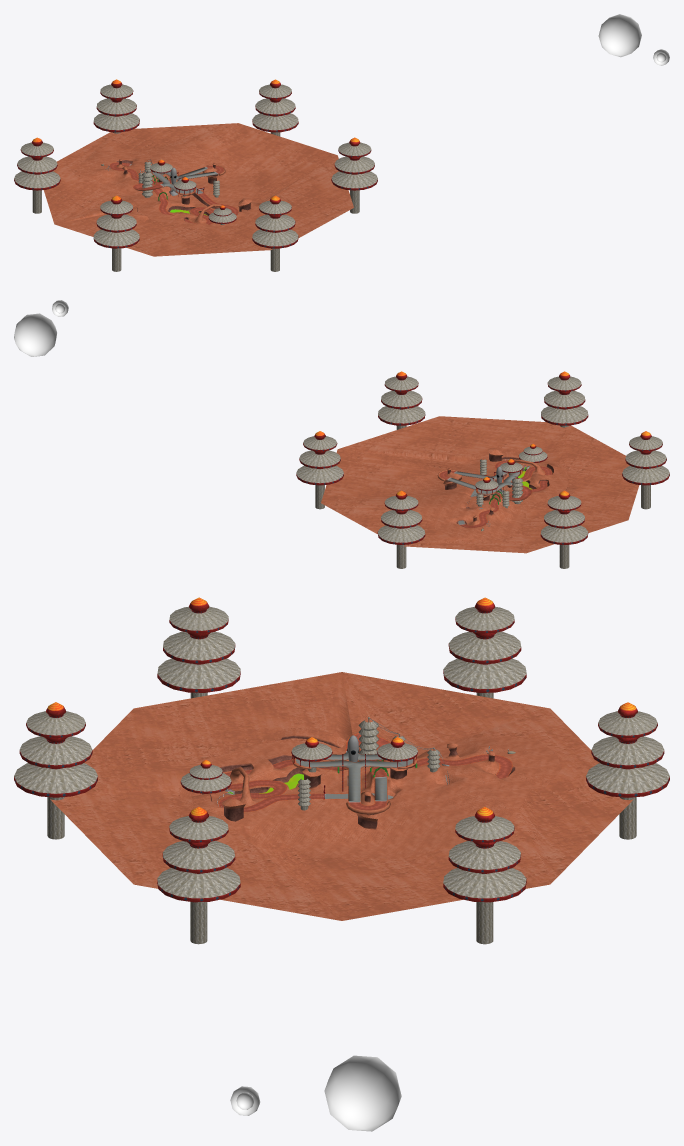
Rendered from xr591_track.glb.
The picture shows the model from 3 angles, top to bottom: view 1: azimuth 30°, elevation 25°; view 2: azimuth 150°, elevation 25°; view 3: azimuth 270°, elevation 25°; orthographic projection. The views are drawn at different scales.
Visible parts, largest first — view 1: red_dirt.jpg__, basic-wall.jpg__, columnred.png__, gfxGlow_red_a.png__, trail.jpg__, trail-metal.jpg__; view 2: red_dirt.jpg__, basic-wall.jpg__, columnred.png__, gfxGlow_red_a.png__, trail.jpg__, trail-metal.jpg__, canyon-red.jpg__; view 3: red_dirt.jpg__, basic-wall.jpg__, columnred.png__, gfxGlow_red_a.png__, trail.jpg__, trail-metal.jpg__, canyon-red.jpg__.
Part boxes in pixels (left/top/right/bottom): red_dirt.jpg__: left=43, top=123, right=353, bottom=256; basic-wall.jpg__: left=14, top=84, right=377, bottom=271; columnred.png__: left=14, top=79, right=377, bottom=248; gfxGlow_red_a.png__: left=598, top=14, right=641, bottom=57; trail.jpg__: left=109, top=162, right=238, bottom=224; trail-metal.jpg__: left=105, top=167, right=219, bottom=193; red_dirt.jpg__: left=321, top=416, right=639, bottom=553; basic-wall.jpg__: left=296, top=376, right=669, bottom=568; columnred.png__: left=296, top=371, right=669, bottom=544; gfxGlow_red_a.png__: left=14, top=313, right=56, bottom=356; trail.jpg__: left=439, top=460, right=552, bottom=527; trail-metal.jpg__: left=445, top=471, right=519, bottom=526; canyon-red.jpg__: left=444, top=453, right=566, bottom=527; red_dirt.jpg__: left=50, top=672, right=633, bottom=920; basic-wall.jpg__: left=14, top=606, right=669, bottom=944; columnred.png__: left=14, top=597, right=669, bottom=902; gfxGlow_red_a.png__: left=324, top=1055, right=401, bottom=1131; trail.jpg__: left=218, top=733, right=512, bottom=812; trail-metal.jpg__: left=295, top=750, right=492, bottom=804; canyon-red.jpg__: left=209, top=735, right=515, bottom=829.
Bounding box in the file's own units: 1191 × 167 × 636.
Materials: 23 (18 with a texture image).
